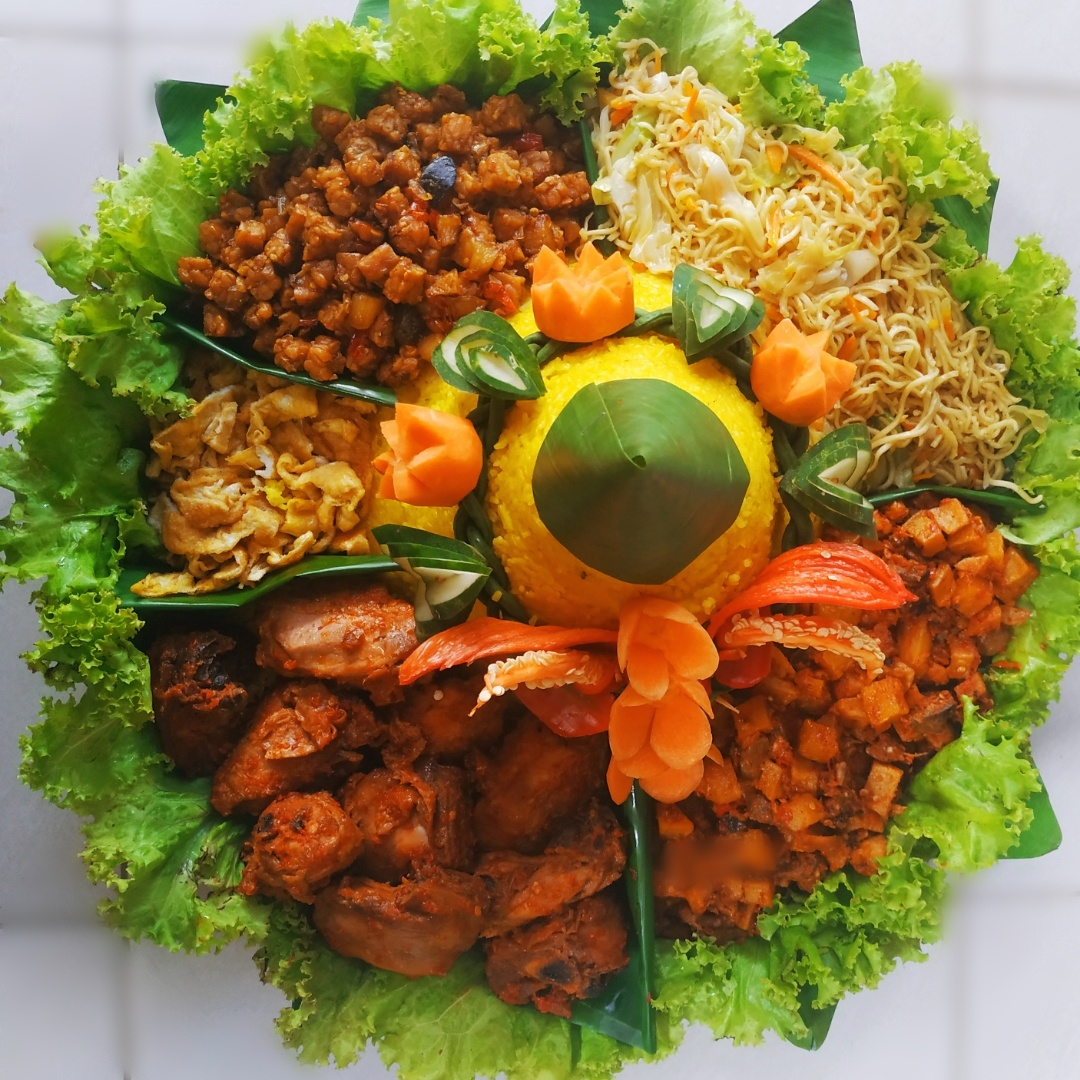nasi_tumpeng: (141, 43, 1032, 1024)
